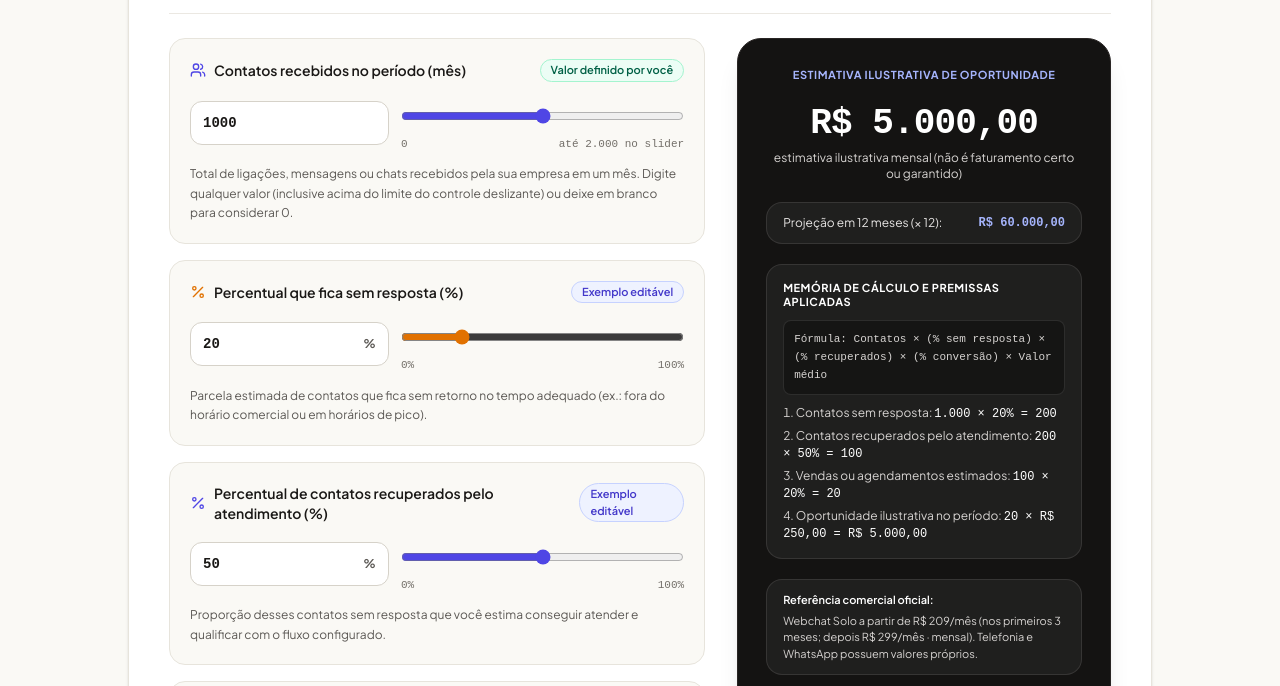
Test: Simulador transparente de oportunidade potencial (LostRevenueCalculator) › atualiza resultados e memória de cálculo ao alterar controles, limpar valores e restaurar exemplo
Earlier steps of the test are not shown.
(page scrolled)
Step 1. Set the slider named "Controle deslizante: Percentual que fica sem resposta" to "30" → (489, 337), box x1=401 y1=315 x2=684 y2=359
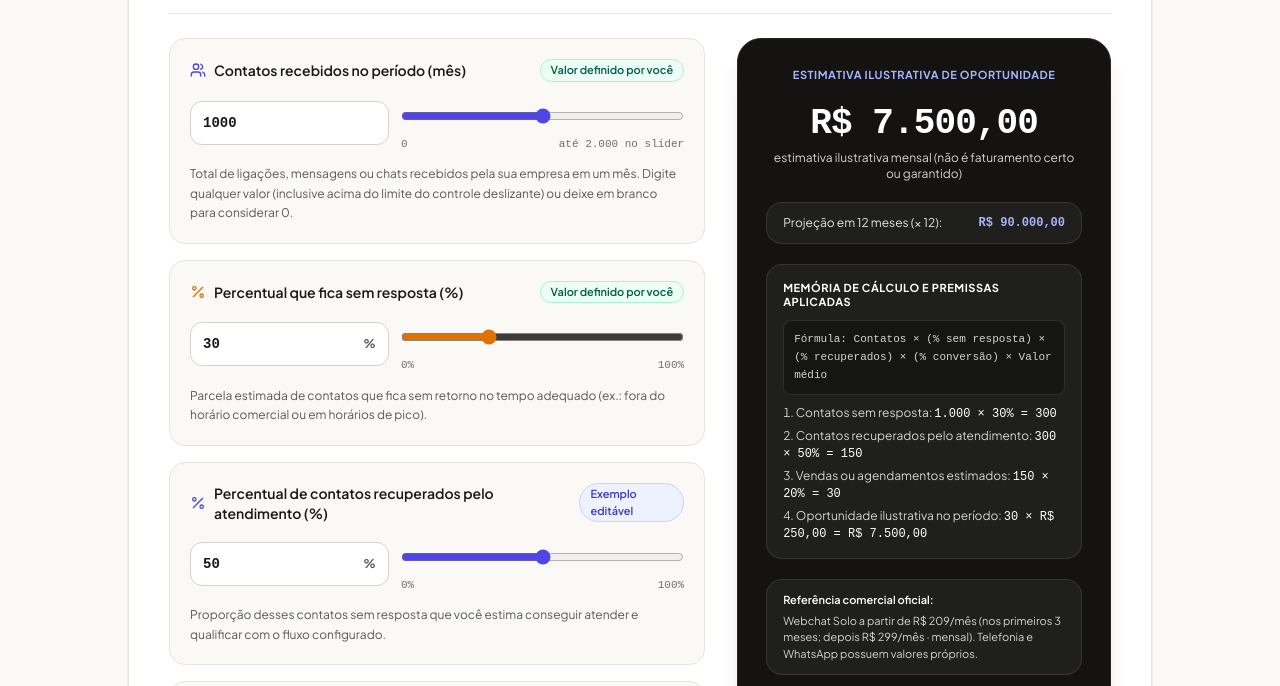
Step 2. Set the slider named "Controle deslizante: Percentual de contatos recuperados" to "60" → (569, 556), box x1=401 y1=534 x2=684 y2=578
(page scrolled)
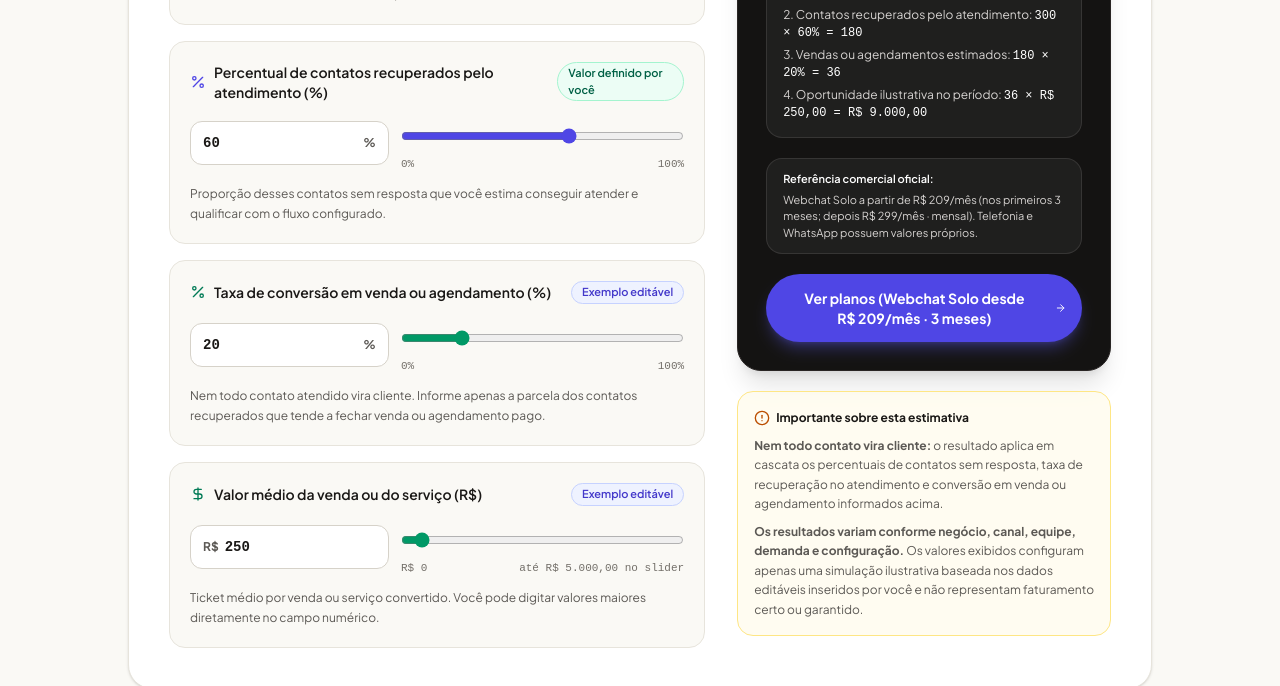
Step 3. Set the slider named "Controle deslizante: Taxa de conversão" to "25" → (476, 338), box x1=401 y1=316 x2=684 y2=360
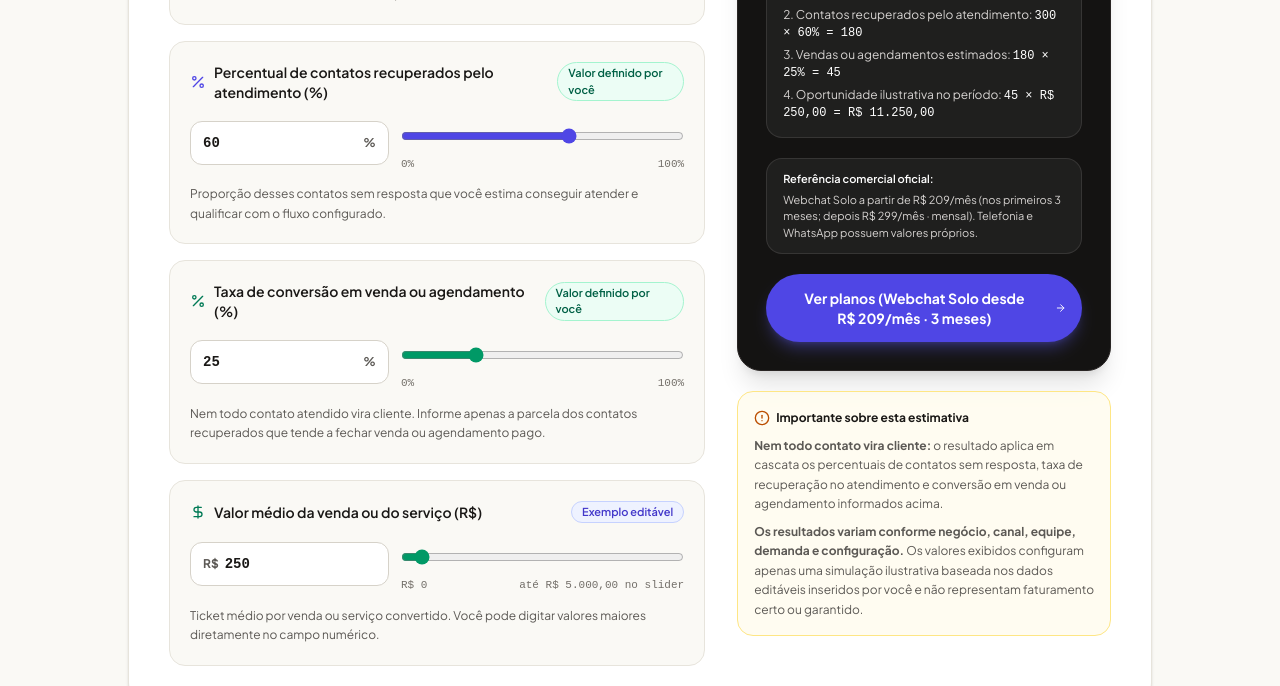
Step 4. Set the slider named "Controle deslizante: Valor médio da venda" to "500" → (436, 557), box x1=401 y1=535 x2=684 y2=579
(page scrolled)
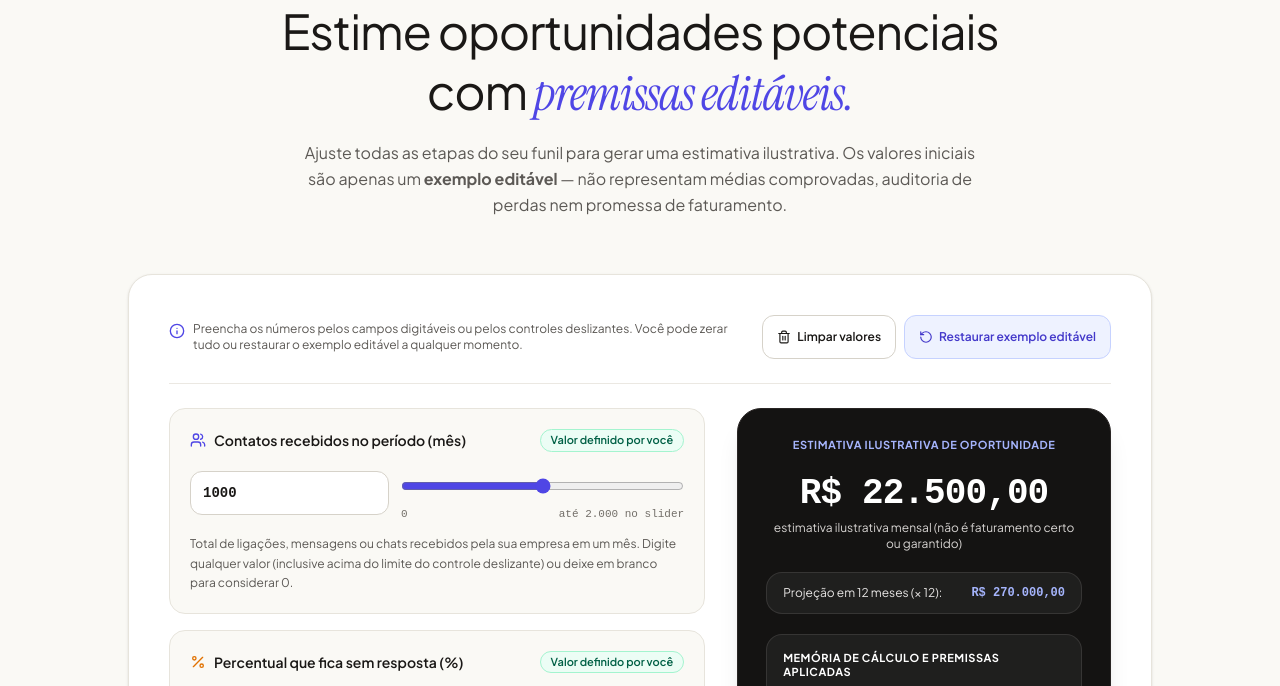
Expected: the text with test id "opportunity-monthly-output" reads "R$ 22.500,00", x1=800 y1=472 x2=1048 y2=514
Expected: the text with test id "opportunity-annual-output" reads "R$ 270.000,00", x1=971 y1=586 x2=1065 y2=600
Note: Botão limpar valores zera todas as entradas e o cálculo
Step 5. Click the button "Limpar valores" → click(829, 337), box x1=762 y1=315 x2=896 y2=359
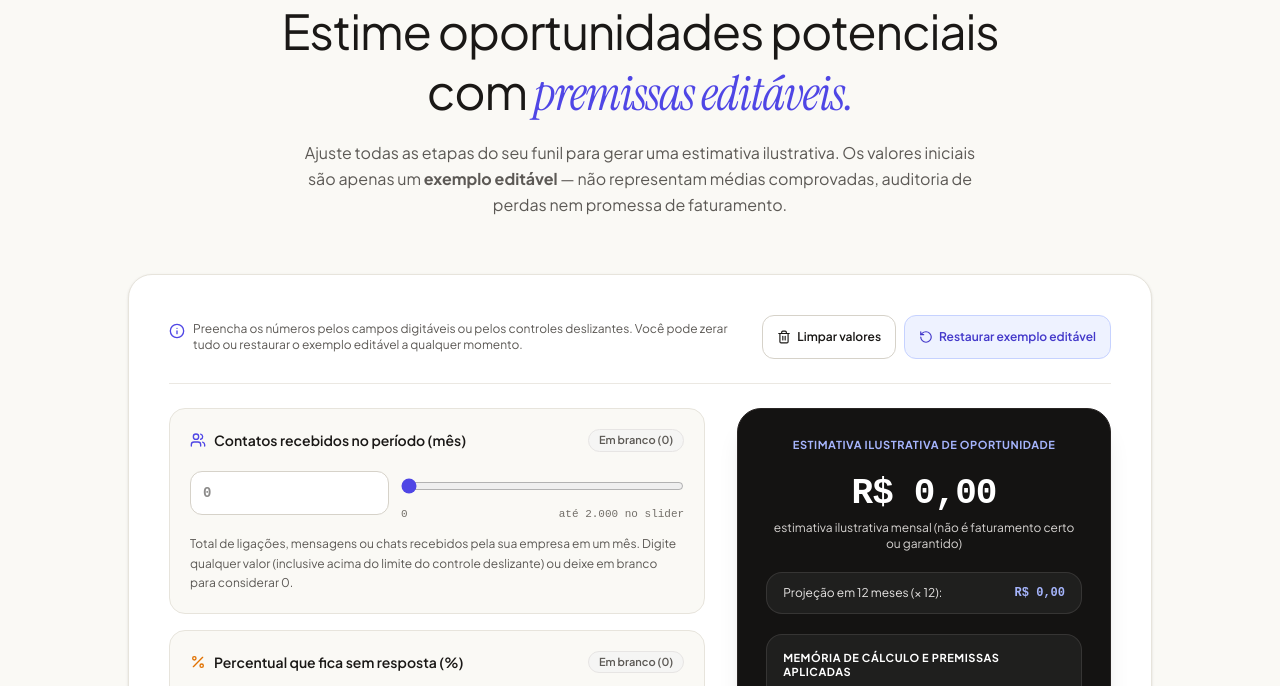
Expected: the text with test id "opportunity-monthly-output" reads "R$ 0,00", x1=852 y1=472 x2=996 y2=514
Expected: the text with test id "opportunity-annual-output" reads "R$ 0,00", x1=1015 y1=586 x2=1065 y2=600
Note: Botão restaurar exemplo retorna aos valores ilustrativos editáveis
Step 6. Click the button "Restaurar exemplo editável" → click(1008, 337), box x1=904 y1=315 x2=1111 y2=359
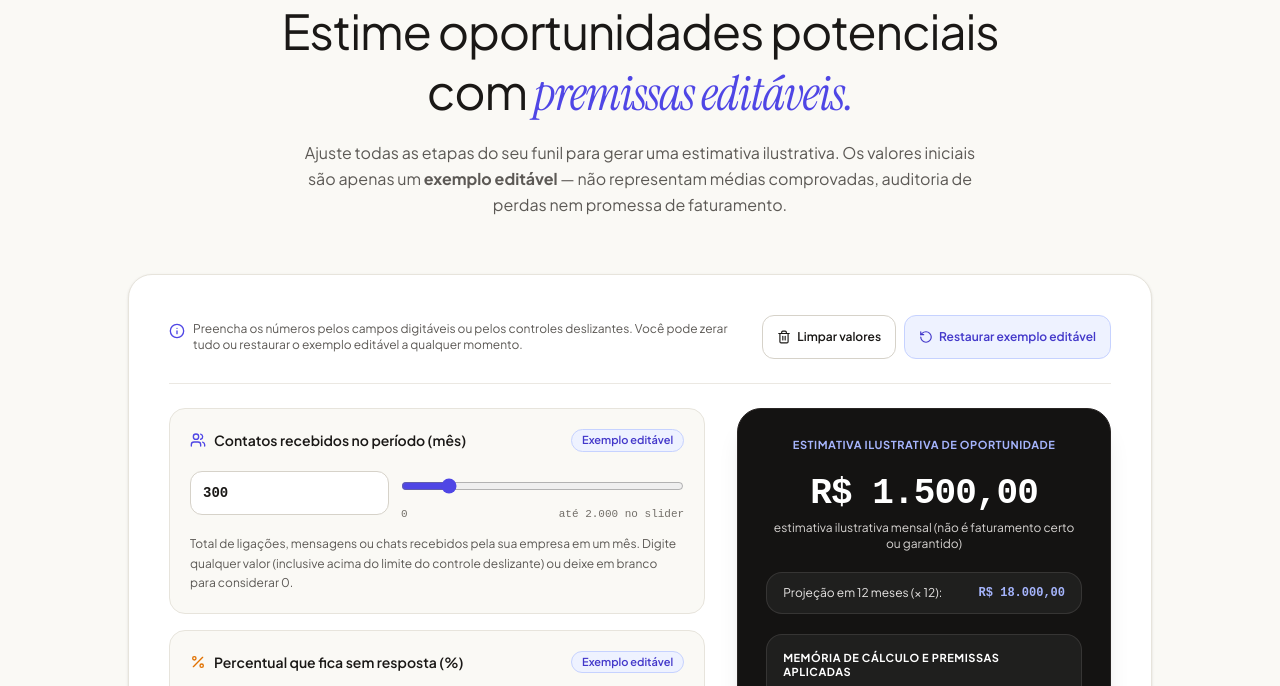
Expected: the text with test id "opportunity-monthly-output" reads "R$ 1.500,00", x1=810 y1=472 x2=1038 y2=514
